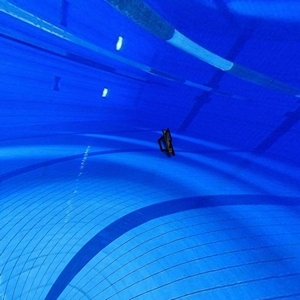submarine: (154, 127, 185, 161)
